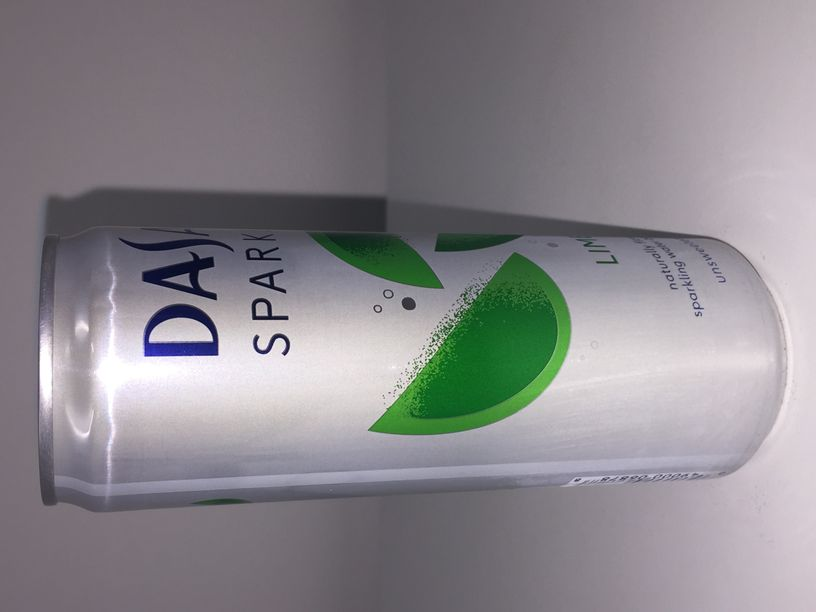lime: (34, 222, 791, 516)
